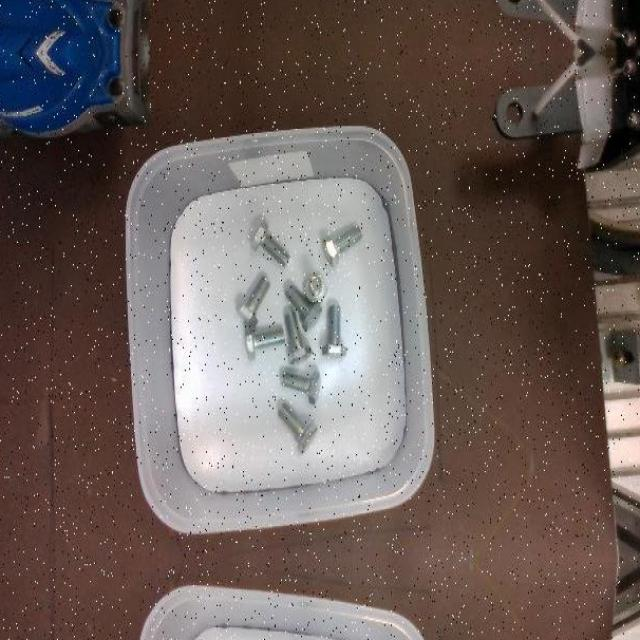screw: (278, 402, 318, 453), (236, 274, 270, 327), (285, 285, 323, 332), (252, 220, 290, 266), (322, 225, 362, 267), (285, 310, 314, 364), (322, 303, 348, 357), (281, 369, 321, 404), (246, 326, 286, 360), (304, 274, 329, 303)
